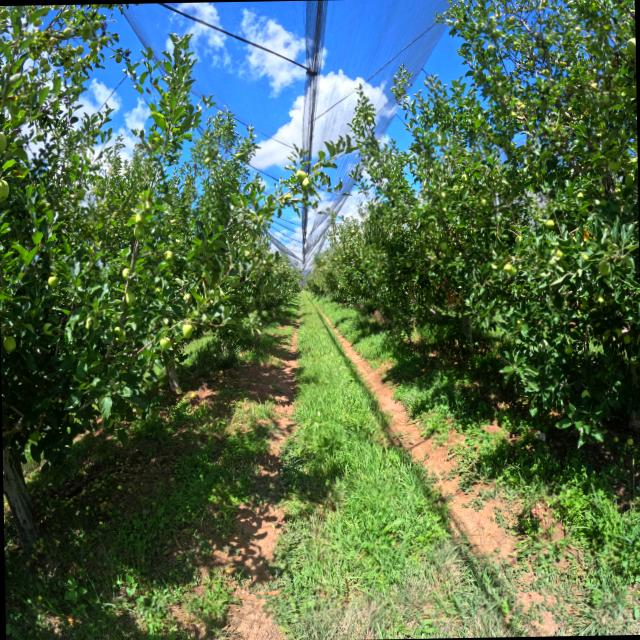-FireBlight-: (435, 274, 464, 306)
